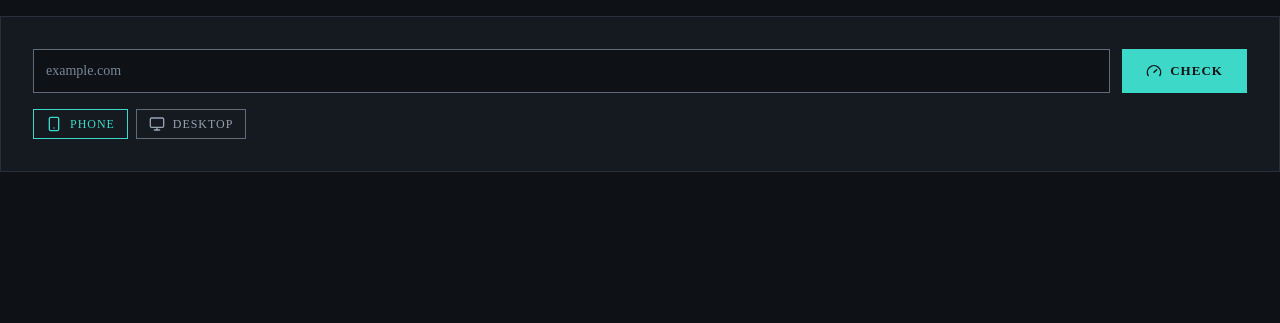
Scenario: CwvChecker › trata origem fora do CrUX como resposta, não como erro
The width and height of the screenshot is (1280, 323).
In the field named "site address": (572, 71) [33,49,1110,93], type "tiny-site.dev"
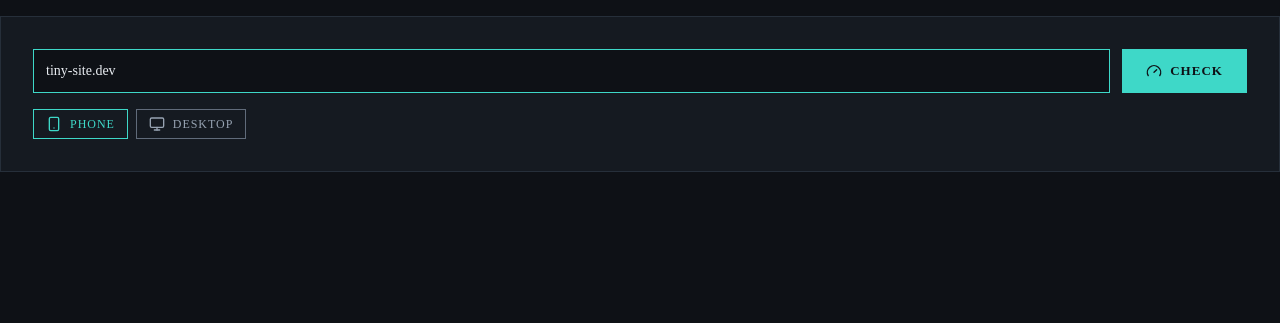
Click the button "Check": (1185, 71) [1122,49,1247,93]
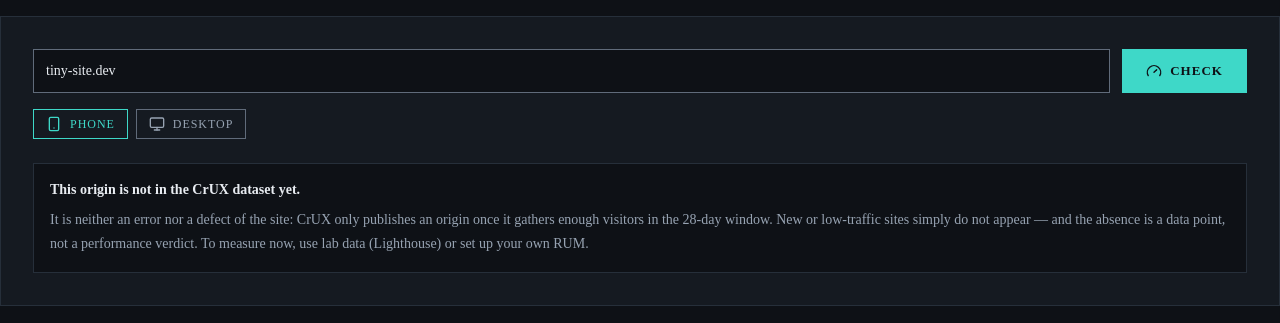
Expected: the text "This origin is not in the CrUX dataset yet." is shown, [50,182,300,197]
